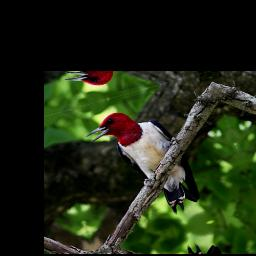Woodpecker: (78, 98, 209, 232)
